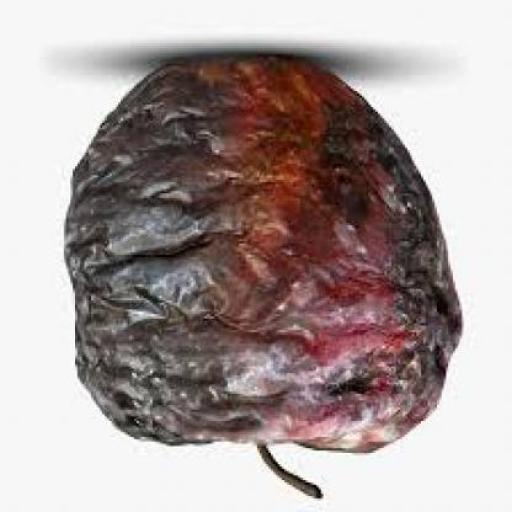biodegradable: (66, 55, 467, 503)
